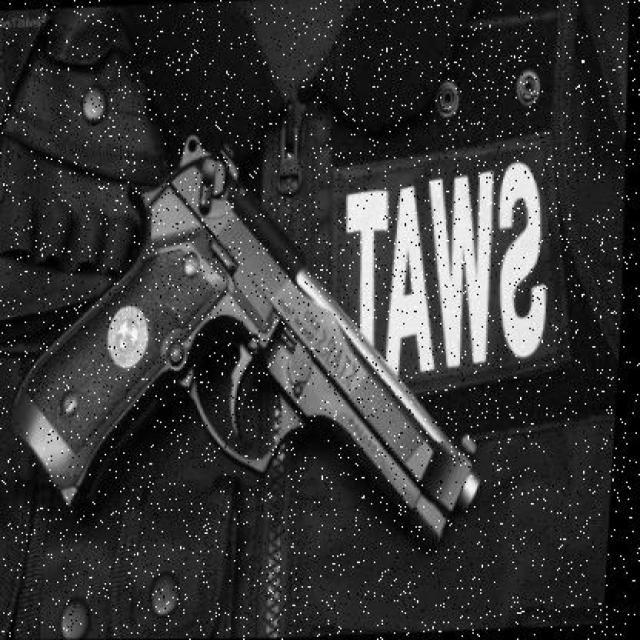weapon: (8, 129, 480, 551)
